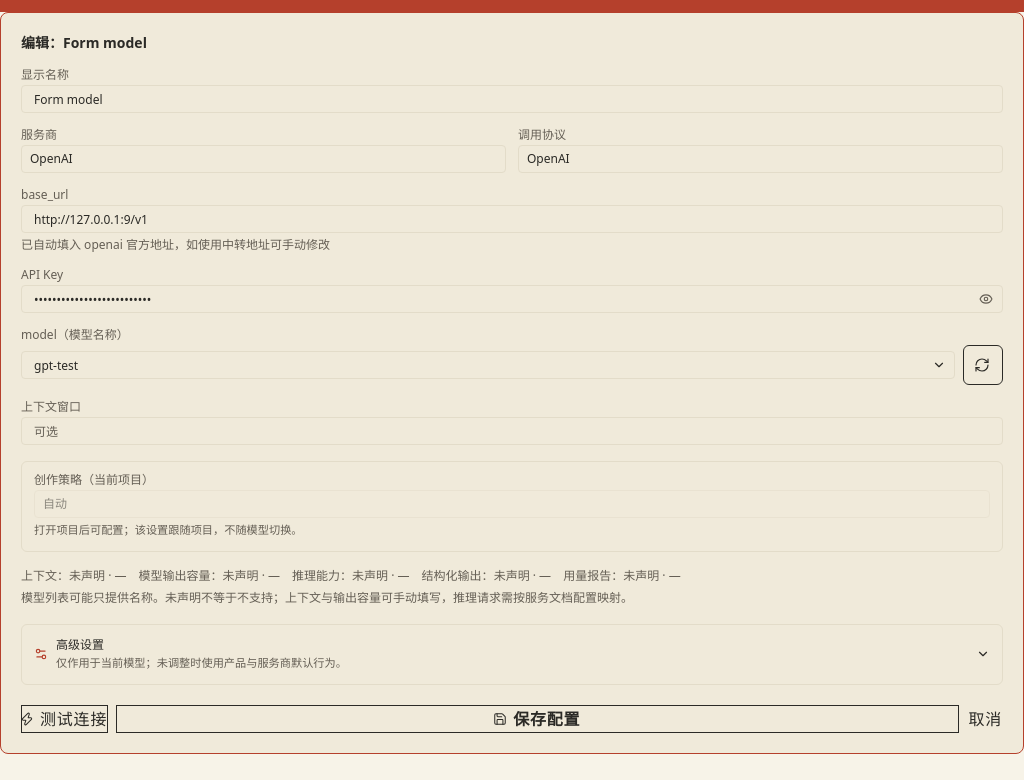
Test case: model connection test result (#484) › explains a registered failure code in zh-CN instead of showing the bare code
Click the button "测试连接". click: (65, 719)
box: [21, 705, 108, 733]
(page scrolled)
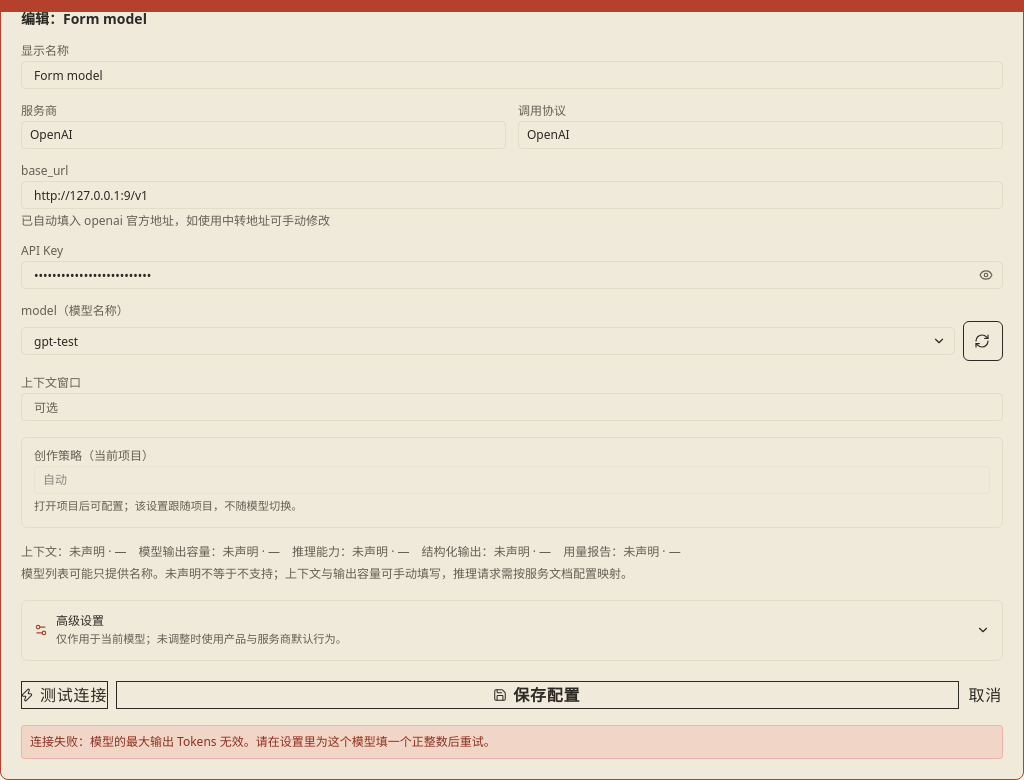
Expected: the text "连接失败：模型的最大输出 Tokens 无效。请在设置里为这个模型填一个正整数后重试。" is shown, [21, 725, 1003, 759]
